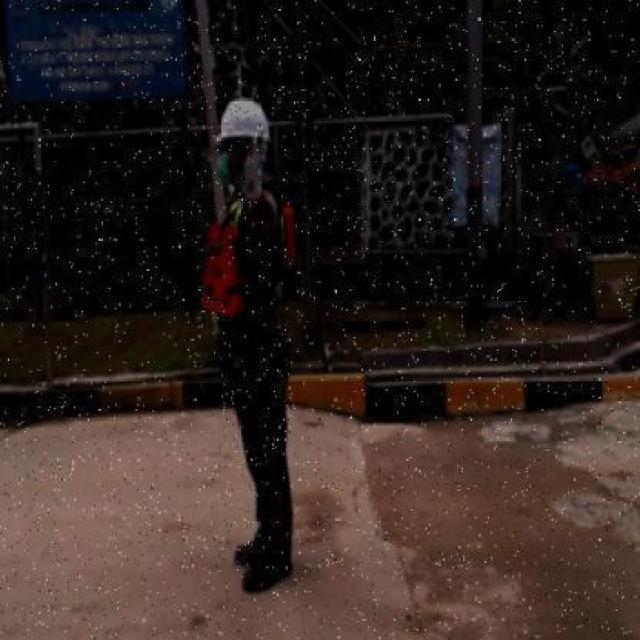Boots: (239, 554, 296, 592), (233, 530, 264, 564)
Gloves: (238, 131, 270, 203)
Helmet: (216, 91, 273, 135)
Mask: (218, 153, 233, 189)
Protective Glasses: (218, 141, 240, 154)
Vest: (198, 203, 298, 320)
